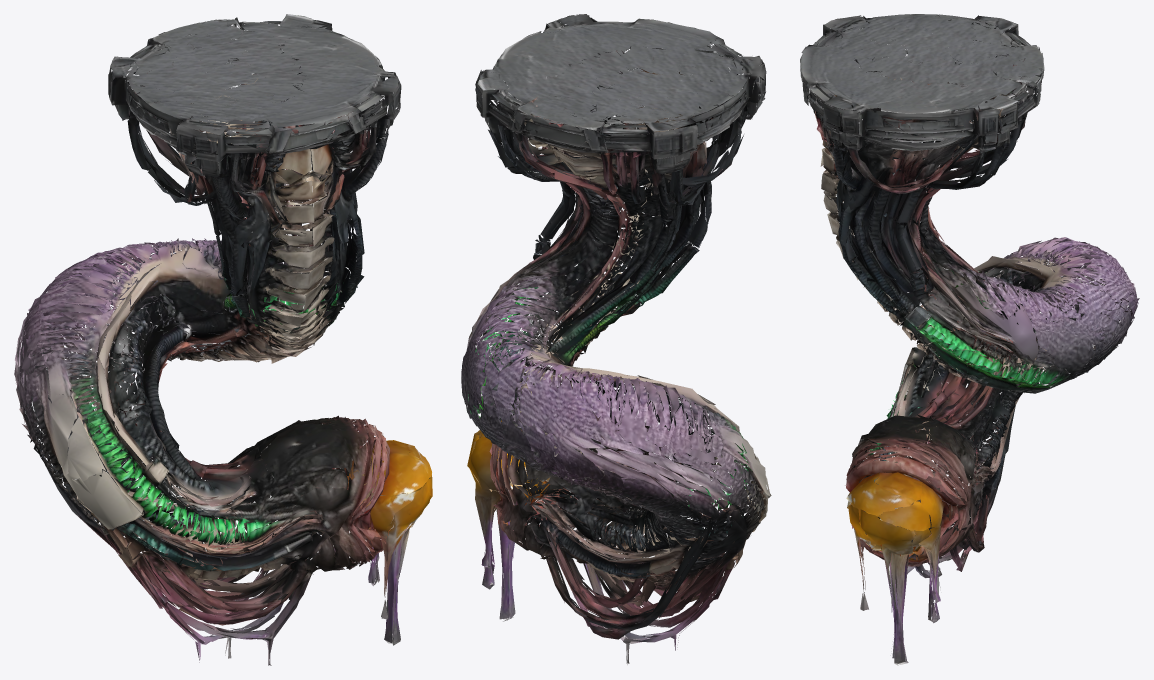
Rendered from hive_visceral_ovipositor.glb.
3 views of the same model, side by side, from view 1: azimuth 30°, elevation 25°; view 2: azimuth 150°, elevation 25°; view 3: azimuth 270°, elevation 25° (orthographic). The views are drawn at different scales.
Parts seen in each view (by area): view 1: node_0; view 2: node_0; view 3: node_0.
Part boxes in pixels (x1,y1,x2,y2): node_0: [14, 14, 432, 665]; node_0: [461, 14, 771, 664]; node_0: [800, 14, 1139, 665].
Size of the model in its own units: 0.6103 by 1.04 by 0.5837.
1 material, 1 textured.
